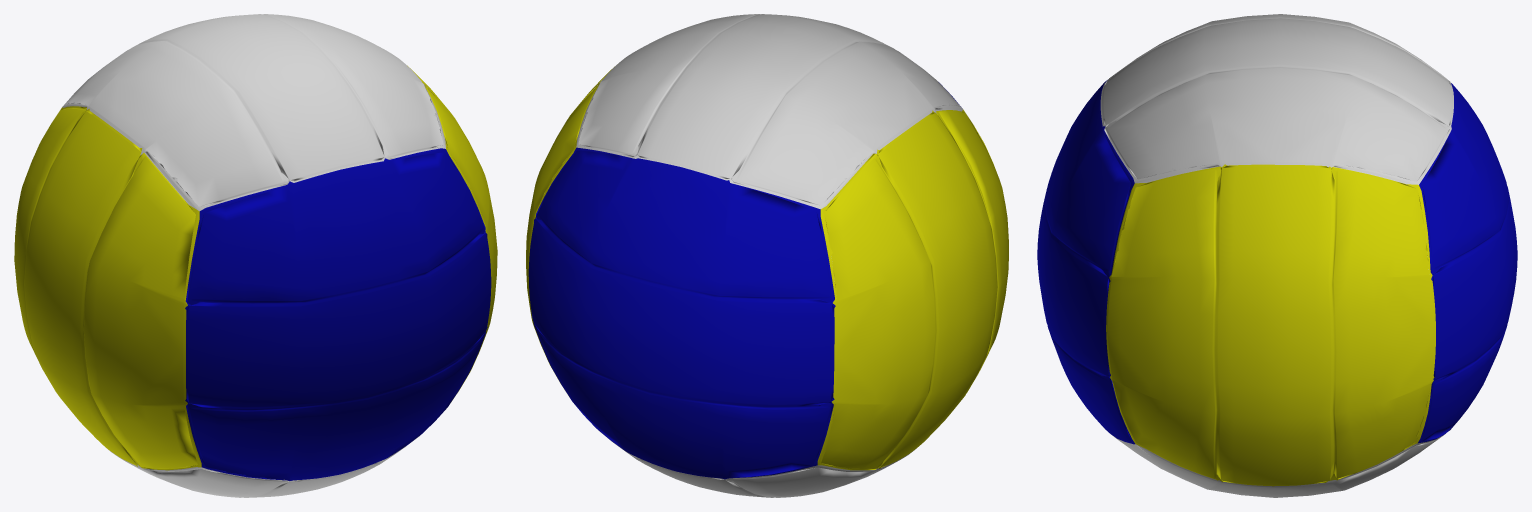
The model's file is volleyball-colored.obj.
3 views of the same model, side by side, from view 1: azimuth 30°, elevation 25°; view 2: azimuth 150°, elevation 25°; view 3: azimuth 270°, elevation 25° (orthographic).
Visible parts, largest first — view 1: Sphere_Sphere.001_MatNode.001, Sphere_Sphere.001_MatNode.002, Sphere_Sphere.001_MatNode; view 2: Sphere_Sphere.001_MatNode.001, Sphere_Sphere.001_MatNode.002, Sphere_Sphere.001_MatNode; view 3: Sphere_Sphere.001_MatNode.002, Sphere_Sphere.001_MatNode, Sphere_Sphere.001_MatNode.001.
Boxes of the visible parts, box(x1,y1,x2,y2) form: Sphere_Sphere.001_MatNode.001: box(185, 148, 491, 481); Sphere_Sphere.001_MatNode.002: box(14, 65, 497, 470); Sphere_Sphere.001_MatNode: box(62, 14, 485, 497); Sphere_Sphere.001_MatNode.001: box(528, 82, 960, 479); Sphere_Sphere.001_MatNode.002: box(526, 66, 1008, 470); Sphere_Sphere.001_MatNode: box(576, 14, 962, 497); Sphere_Sphere.001_MatNode.002: box(1106, 164, 1435, 486); Sphere_Sphere.001_MatNode: box(1100, 14, 1453, 497); Sphere_Sphere.001_MatNode.001: box(1037, 80, 1517, 444).
Bounding box in the file's own units: 3.39 × 3.39 × 3.38.
